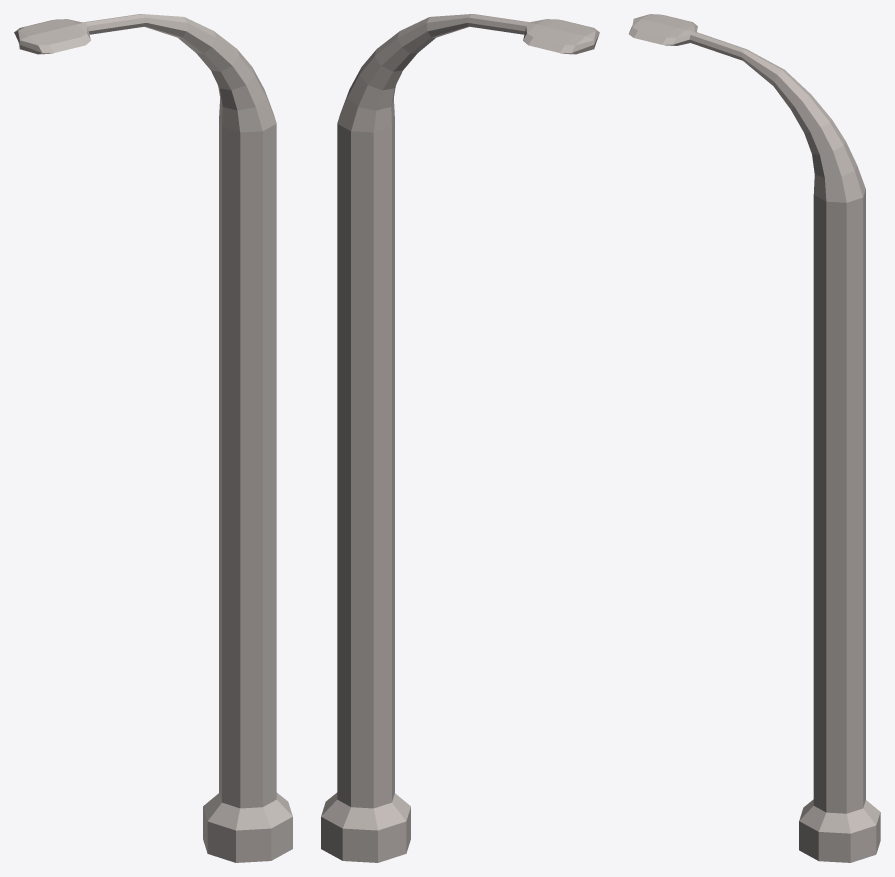
Rendered from streetlight.fbx.
The picture shows the model from 3 angles, left to right: view 1: azimuth 30°, elevation 25°; view 2: azimuth 150°, elevation 25°; view 3: azimuth 330°, elevation 25°; orthographic projection. The views are drawn at different scales.
Visible parts, largest first — view 1: original; view 2: original; view 3: original.
Part boxes in pixels (bbox=[...]): original: bbox=[14, 14, 292, 862]; original: bbox=[321, 14, 599, 862]; original: bbox=[628, 14, 880, 862].
Size of the model in its own units: 166 by 510 by 50.
